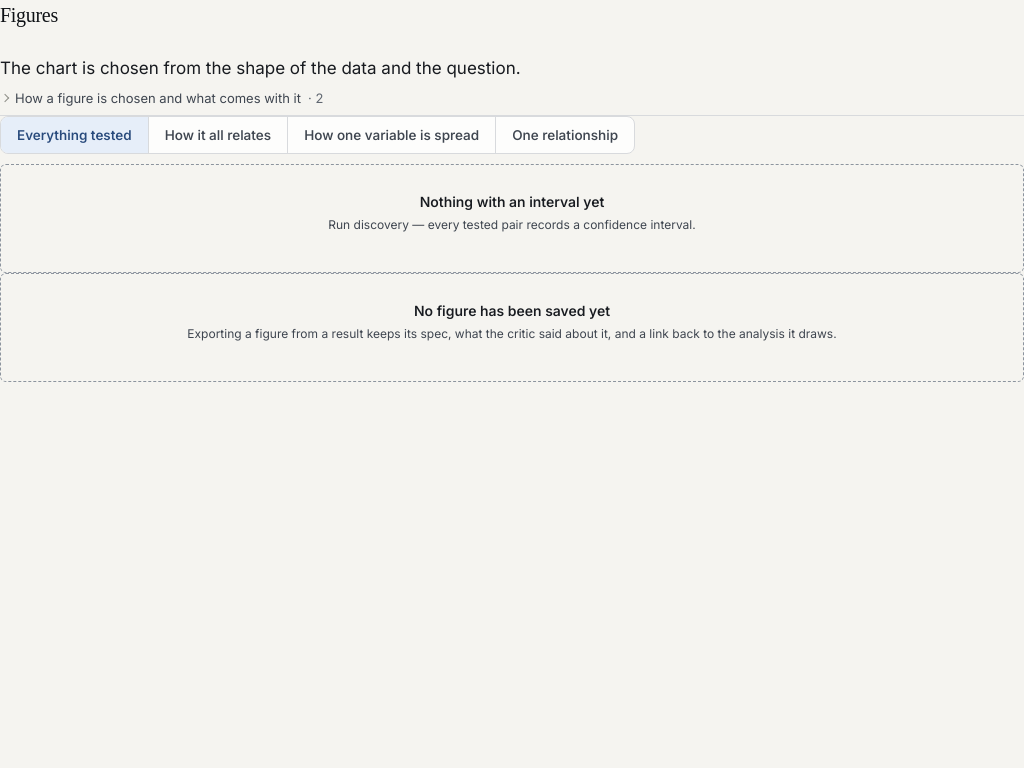
the two ways a figure leaves the screen › keeps the honest sentence about what the quick save is, pointing the right way
The image size is (1024, 768).
Click the button "One relationship" at (565, 135), box x1=496 y1=117 x2=634 y2=153
(page scrolled)
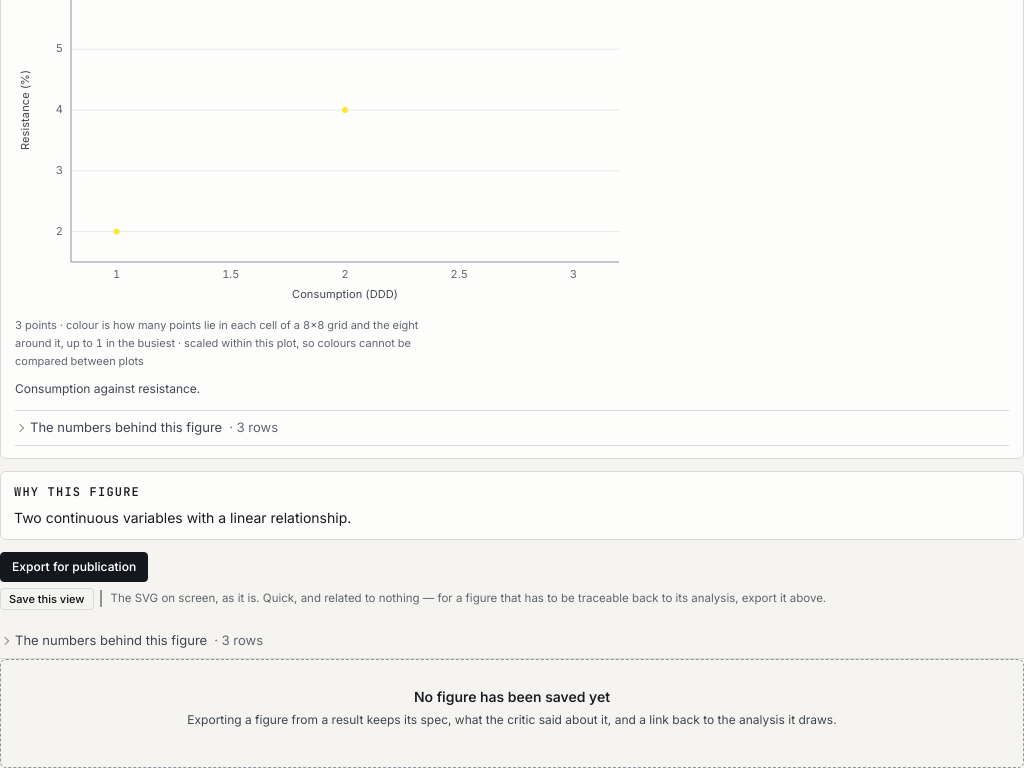
Check: the text "Quick, and related to nothing" is shown, box x1=110 y1=591 x2=786 y2=605
